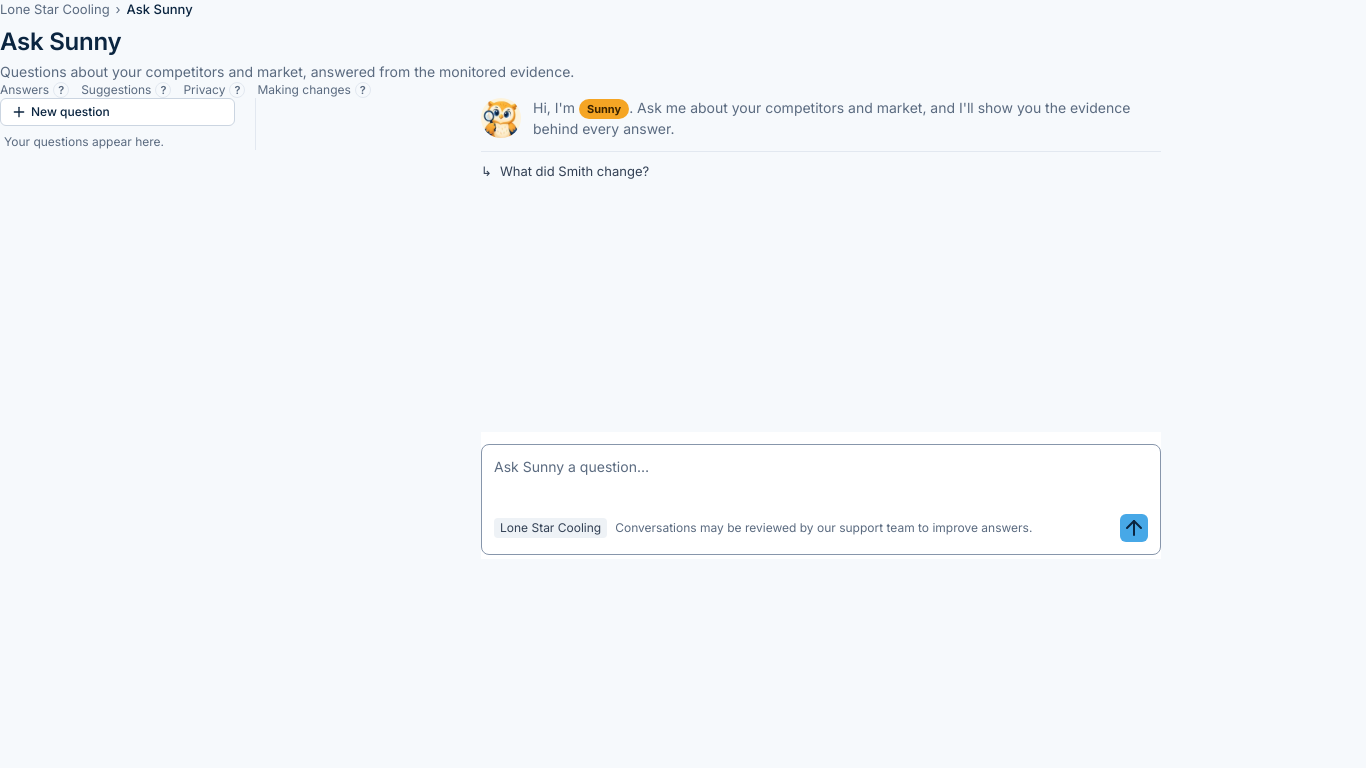
Test: client batch B: Ask and Ask thread › the answers tip says facts are cited and unsupported sentences are removed, without naming a threshold
Click the button named "How answers are checked".
click(61, 90)  # box [53, 82, 69, 98]
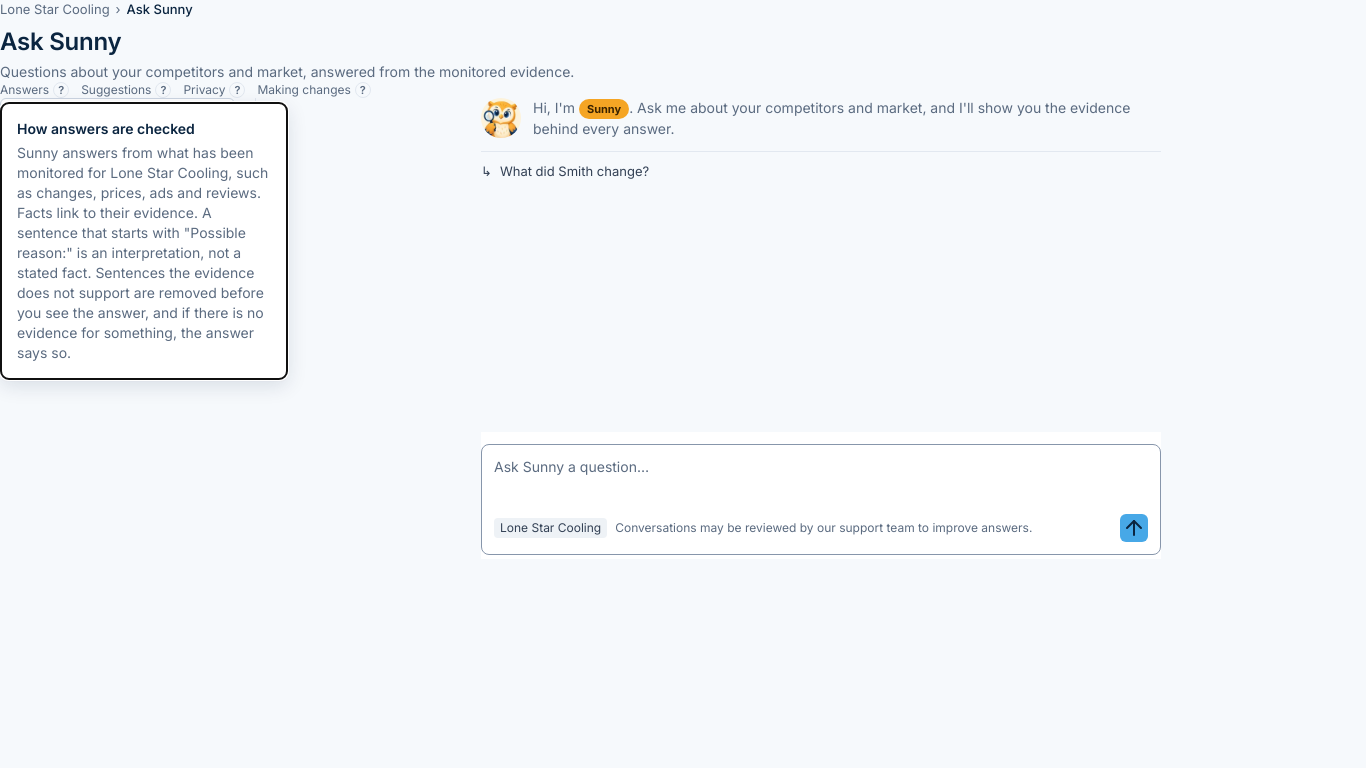
Expected: the text "Possible reason:" is shown, [17, 144, 268, 361]
Expected: the text "removed" is shown, [17, 144, 268, 361]
